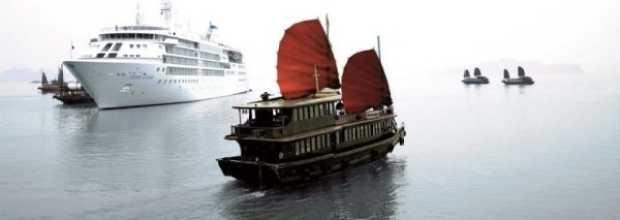otherboat: (214, 11, 405, 186)
youlun: (74, 2, 251, 113)
